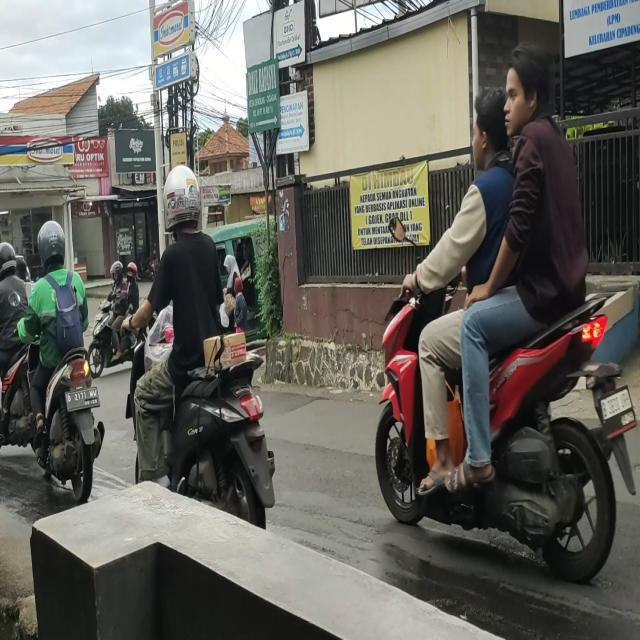helmet: (165, 171, 201, 232), (40, 225, 66, 270), (0, 237, 15, 279), (111, 264, 123, 282), (129, 264, 137, 282)
no-helmet: (471, 89, 508, 169), (509, 48, 543, 128)
